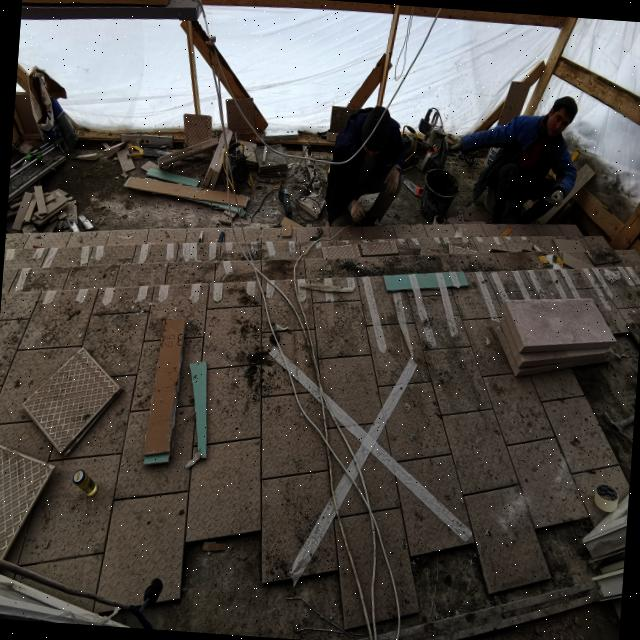NoHelmet: (358, 106, 394, 161), (543, 95, 580, 141)
